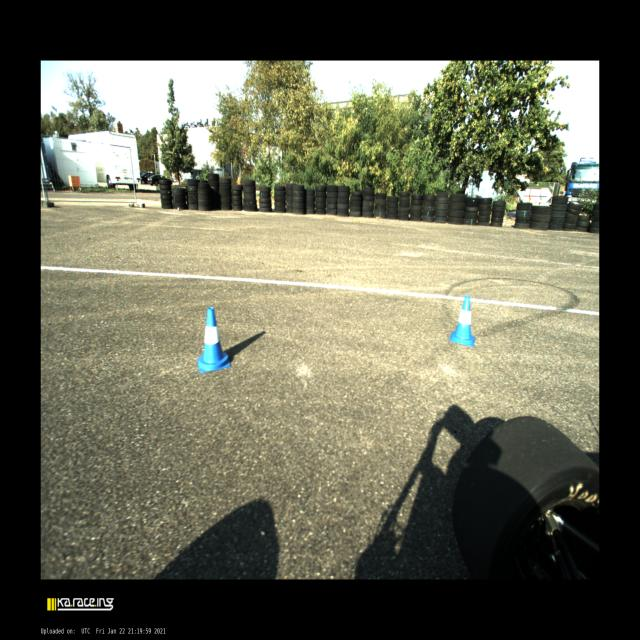blue_cone: (198, 307, 230, 373), (450, 295, 476, 347)
